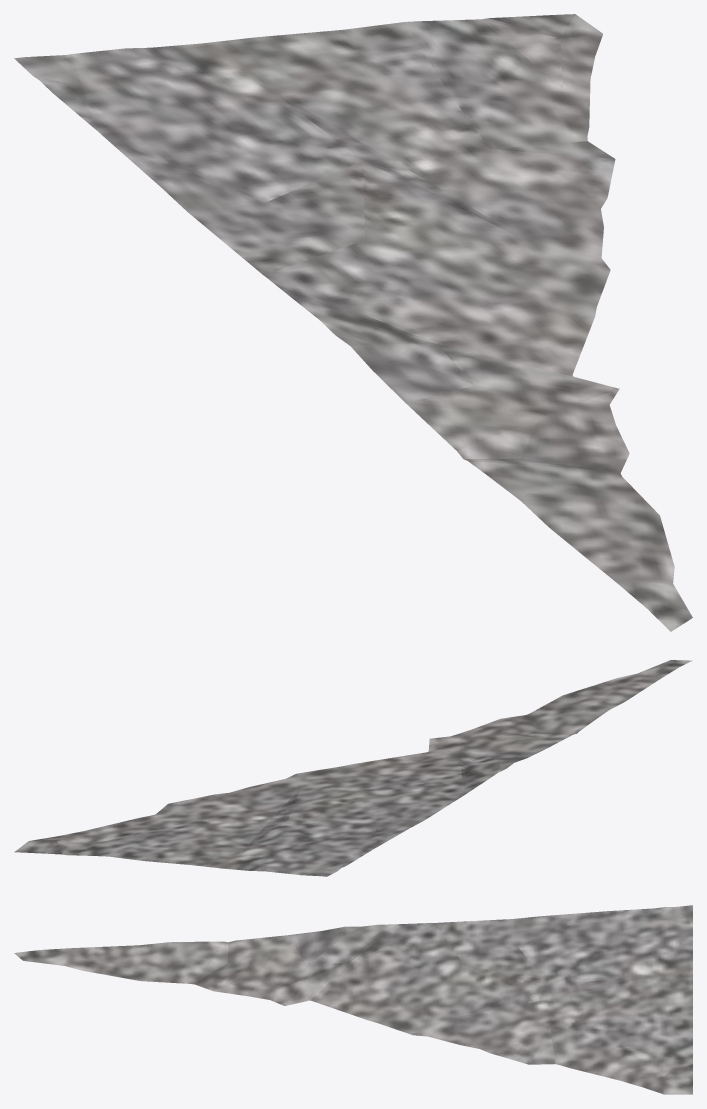
3 views of the same model, one above another, from view 1: azimuth 30°, elevation 25°; view 2: azimuth 150°, elevation 25°; view 3: azimuth 270°, elevation 25° (orthographic). The views are drawn at different scales.
Size of the model in its own units: 0.3394 by 0.0535 by 0.6871.
1 material, 1 textured.
